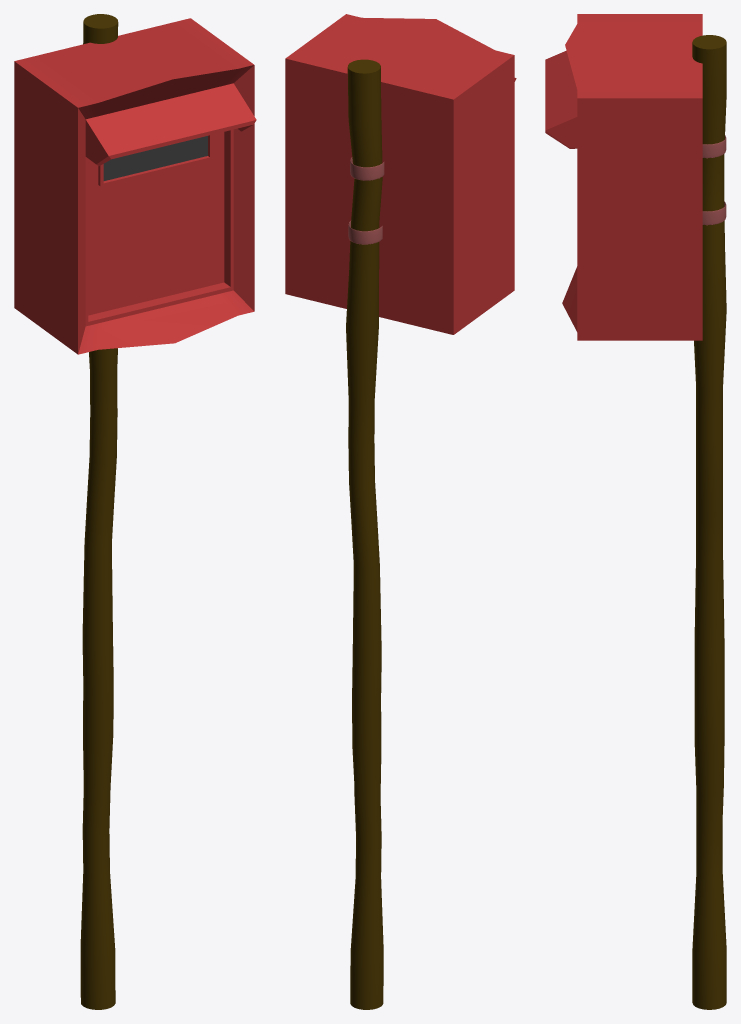
Rendered from Old_MailBox.fbx.
3 renders of one model, left to right at view 1: azimuth 30°, elevation 25°; view 2: azimuth 150°, elevation 25°; view 3: azimuth 270°, elevation 25°, orthographic. The views are drawn at different scales.
Visible parts, largest first — view 1: Box1, wood2; view 2: Box1, wood2; view 3: Box1, wood2.
Boxes of the visible parts, x1=… form: Box1: x1=14, y1=18, x2=256, y2=354; wood2: x1=80, y1=14, x2=118, y2=1009; Box1: x1=285, y1=14, x2=516, y2=334; wood2: x1=346, y1=59, x2=383, y2=1009; Box1: x1=545, y1=14, x2=702, y2=340; wood2: x1=692, y1=35, x2=726, y2=1009.
Bounding box in the file's own units: 46.57 × 247 × 42.29.
